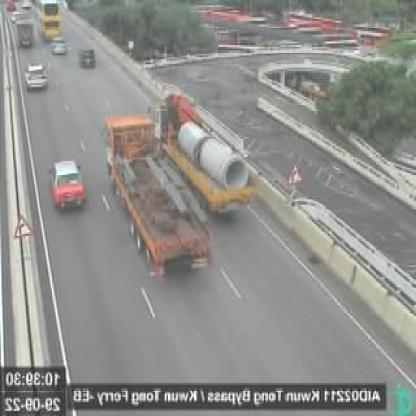Bus: (26, 0, 65, 45)
Car: (48, 149, 90, 217), (21, 61, 53, 92), (14, 9, 36, 50), (74, 42, 103, 71), (53, 31, 70, 59)
Truck: (102, 102, 214, 295), (152, 88, 256, 212)
